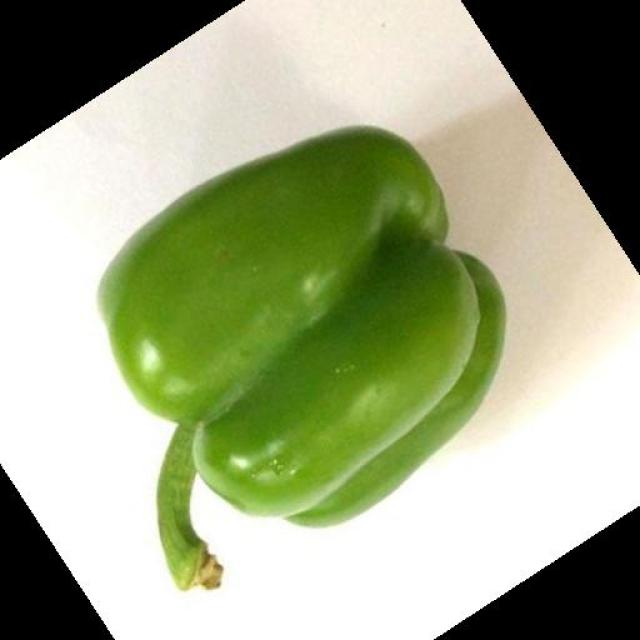Fresh_Capsicum: (78, 178, 516, 440)
